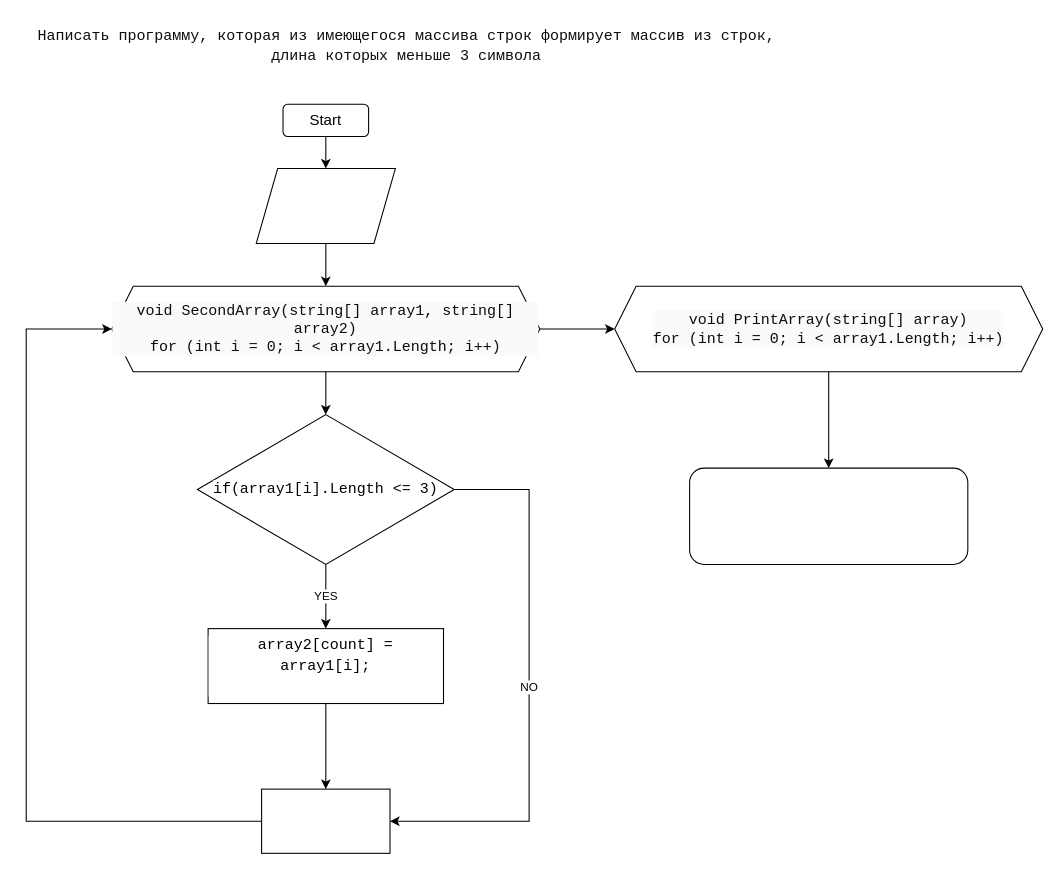
Some shapes in this 1061 by 872 pixel diagram are drawn without their labels. Here are the shapes that lost their labels. From the top down, the box of each, then its label:
(255, 167, 395, 243): string[] array 1 string[] array 2 count = 0
(689, 467, 968, 564): Console . Write ( array [ i ] + " " );
(261, 788, 390, 853): count ++;
